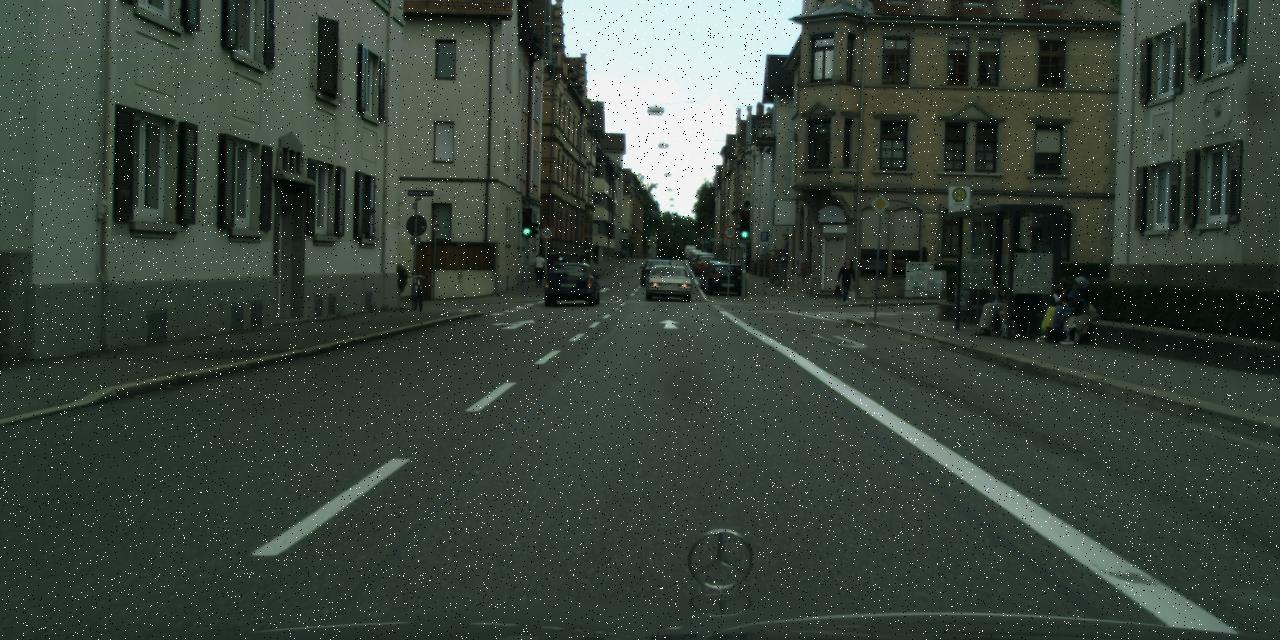ped: (1046, 277, 1100, 345), (1003, 247, 1039, 336), (837, 258, 855, 303), (546, 247, 560, 282), (532, 251, 546, 286)
